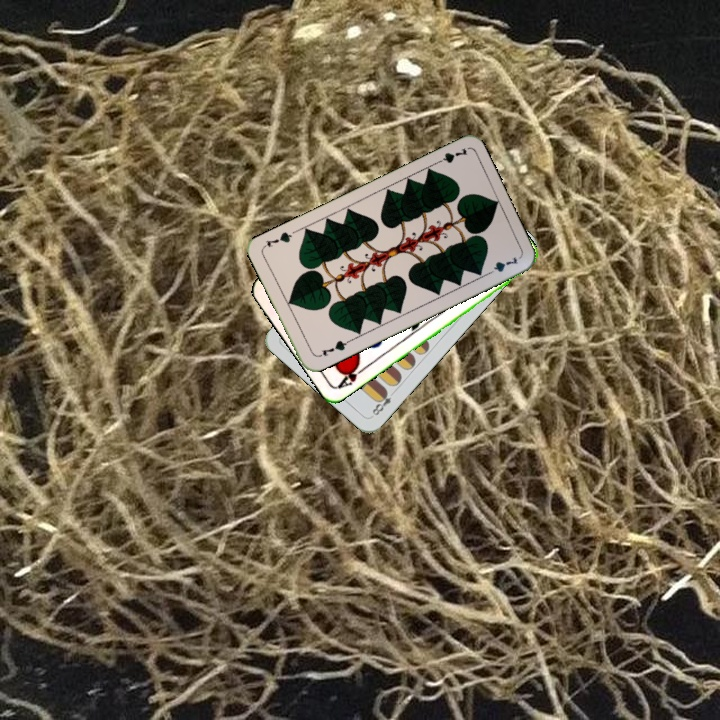E8: (368, 386, 399, 419)
G7: (430, 144, 470, 167), (314, 336, 352, 360)
HA: (334, 359, 370, 391)
